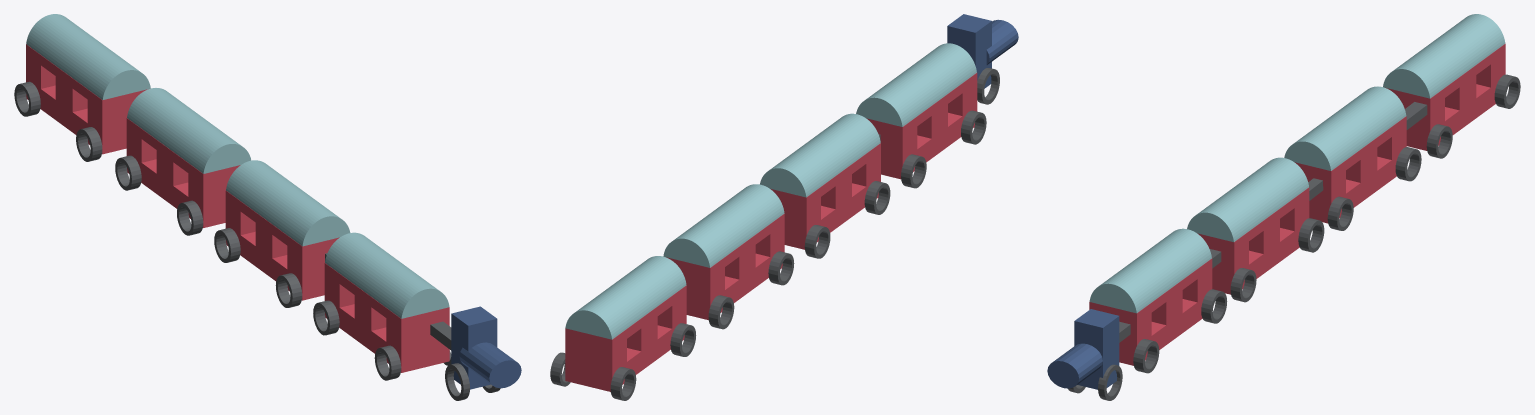
Rendered from Exquisite Habbi-Kup.glb.
3 views of the same model, side by side, from view 1: azimuth 30°, elevation 25°; view 2: azimuth 150°, elevation 25°; view 3: azimuth 330°, elevation 25° (orthographic). The views are drawn at different scales.
Visible parts, largest first — view 1: Mesh_Mesh_head_geo.001_lambert2SG.001; view 2: Mesh_Mesh_head_geo.001_lambert2SG.001; view 3: Mesh_Mesh_head_geo.001_lambert2SG.001.
Boxes of the visible parts, bbox=[...] form: Mesh_Mesh_head_geo.001_lambert2SG.001: bbox=[14, 14, 521, 400]; Mesh_Mesh_head_geo.001_lambert2SG.001: bbox=[550, 14, 1018, 400]; Mesh_Mesh_head_geo.001_lambert2SG.001: bbox=[1047, 14, 1520, 400].
Size of the model in its own units: 21 by 26 by 239.
